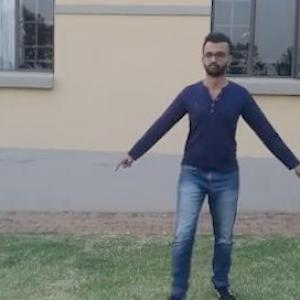land: (125, 34, 299, 299)
